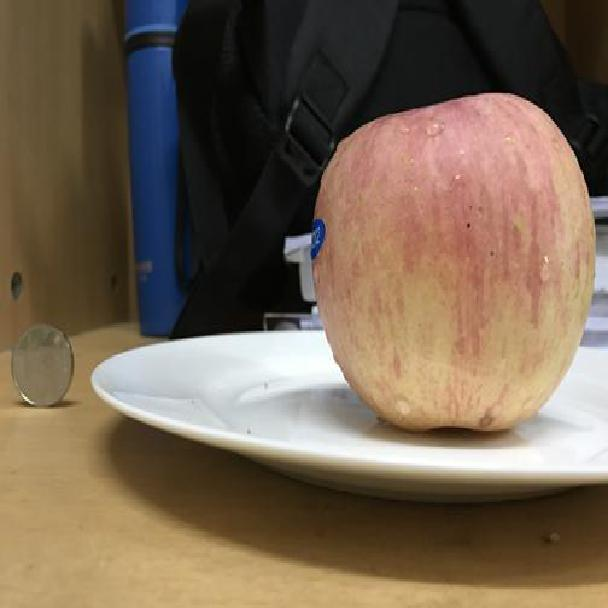apple: (302, 87, 599, 438)
